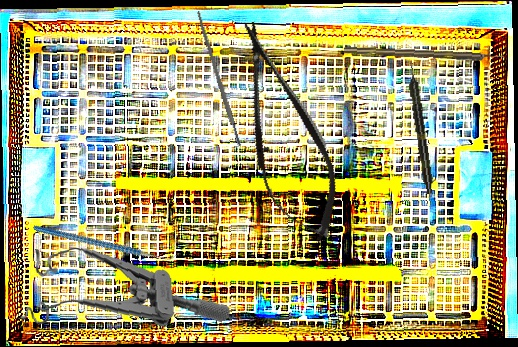Chopper: (32, 180, 182, 303)
Handpiece: (405, 62, 436, 195)
Hook Surgical: (343, 45, 505, 63)
Micro Scissor: (214, 11, 354, 252)
Scalpel Handle: (195, 10, 242, 148)
Speculum: (14, 233, 231, 339)
